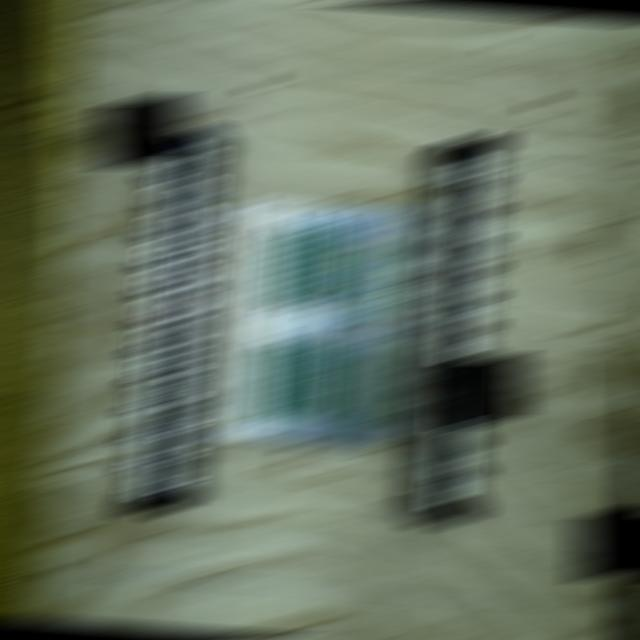Flathead_Block: (411, 137, 506, 524)
Phillips_Block: (118, 125, 215, 514)
Terminal_1: (347, 348, 385, 427), (355, 244, 393, 322)
Terminal_2: (298, 345, 337, 420), (284, 225, 322, 300), (251, 340, 289, 415), (307, 227, 344, 303), (275, 344, 312, 418)
